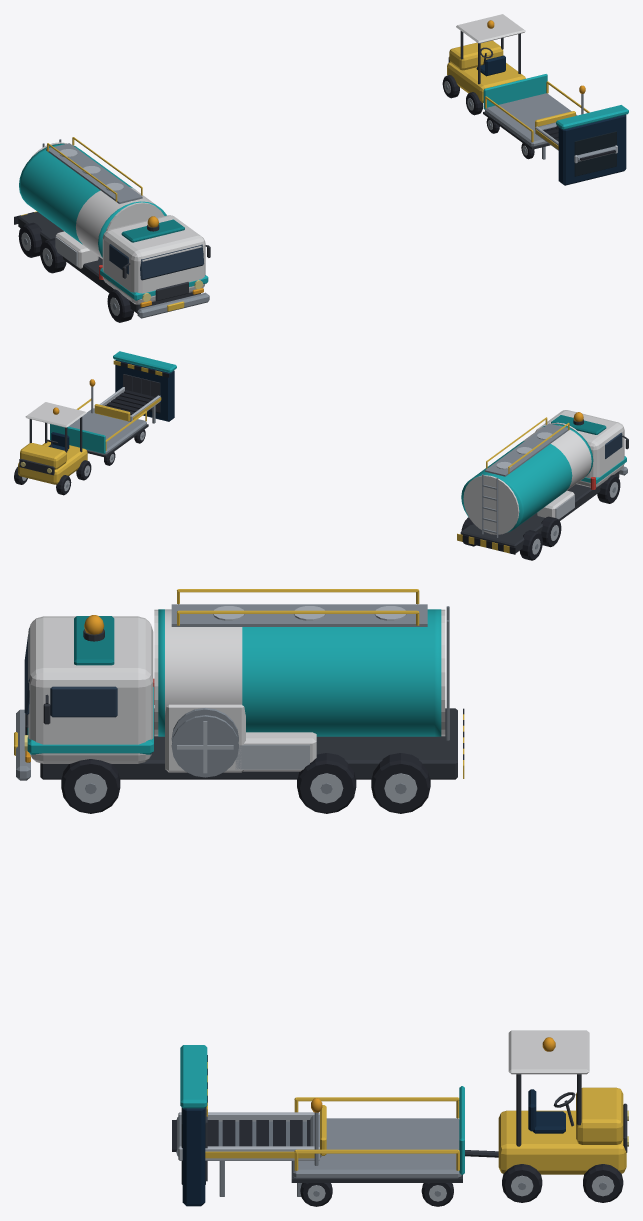
The model's file is skyport-vehicles.glb.
3 renders of one model, top to bottom at view 1: azimuth 30°, elevation 25°; view 2: azimuth 150°, elevation 25°; view 3: azimuth 270°, elevation 25°, orthographic. The views are drawn at different scales.
Visible parts, largest first — view 1: sp_fuel_mesh, sp_belt_mesh, sp_fuel_wheel_br_mesh, sp_fuel_wheel_fr_mesh, sp_fuel_wheel_mr_mesh; view 2: sp_fuel_mesh, sp_belt_mesh, sp_belt_slats_mesh, sp_fuel_wheel_br_mesh, sp_fuel_wheel_mr_mesh, sp_fuel_wheel_fr_mesh; view 3: sp_fuel_mesh, sp_belt_mesh, sp_fuel_reel_mesh, sp_fuel_wheel_bl_mesh, sp_fuel_wheel_ml_mesh, sp_fuel_wheel_fl_mesh, sp_belt_slats_mesh.
Part boxes in pixels (left/top/right/bottom): sp_fuel_mesh: left=14, top=137, right=210, bottom=318; sp_belt_mesh: left=442, top=14, right=628, bottom=185; sp_fuel_wheel_br_mesh: left=18, top=222, right=41, bottom=257; sp_fuel_wheel_fr_mesh: left=107, top=289, right=133, bottom=322; sp_fuel_wheel_mr_mesh: left=40, top=238, right=66, bottom=273; sp_fuel_mesh: left=457, top=410, right=628, bottom=554; sp_belt_mesh: left=14, top=351, right=176, bottom=495; sp_belt_slats_mesh: left=105, top=390, right=155, bottom=414; sp_fuel_wheel_br_mesh: left=519, top=530, right=542, bottom=560; sp_fuel_wheel_mr_mesh: left=541, top=516, right=561, bottom=547; sp_fuel_wheel_fr_mesh: left=597, top=474, right=620, bottom=503; sp_fuel_mesh: left=14, top=589, right=464, bottom=780; sp_belt_mesh: left=176, top=1030, right=628, bottom=1206; sp_fuel_reel_mesh: left=171, top=707, right=238, bottom=777; sp_fuel_wheel_bl_mesh: left=371, top=753, right=430, bottom=813; sp_fuel_wheel_ml_mesh: left=297, top=753, right=356, bottom=813; sp_fuel_wheel_fl_mesh: left=61, top=759, right=120, bottom=813; sp_belt_slats_mesh: left=172, top=1120, right=310, bottom=1151.
Bounding box in the file's own units: 16.3 × 2.98 × 9.13.
